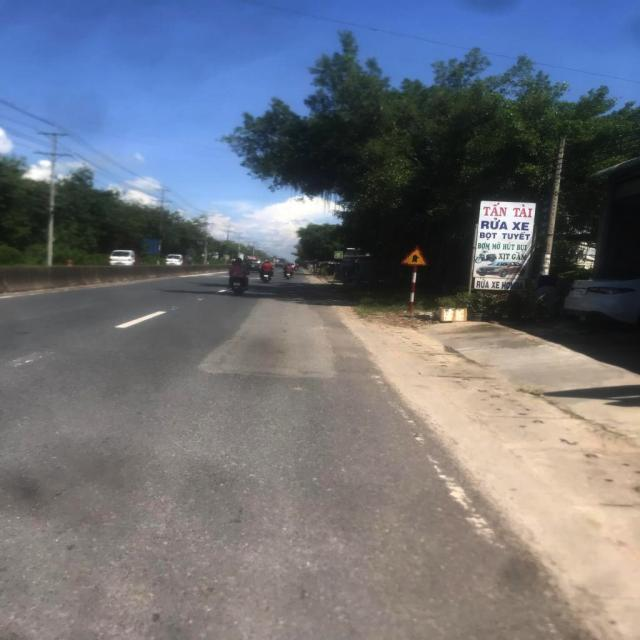207-giao-nhau-voi-duong-khong-uu-tien: (400, 245, 428, 267)
